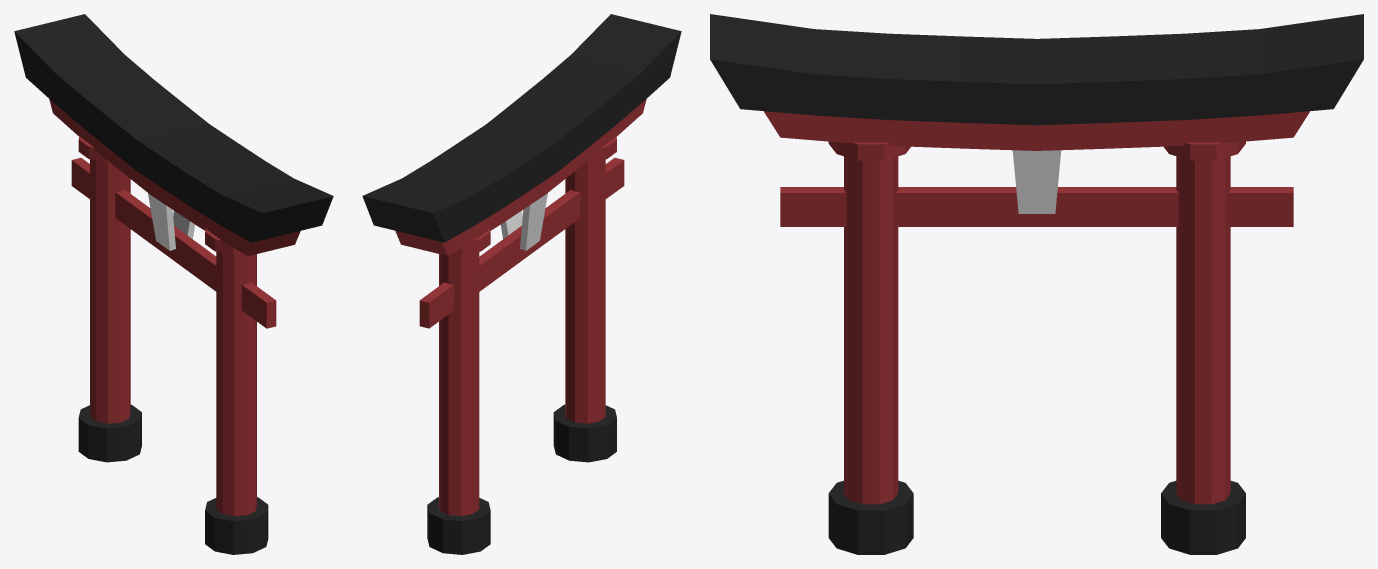
File: Torii.fbx
3 views of the same model, side by side, from view 1: azimuth 30°, elevation 25°; view 2: azimuth 150°, elevation 25°; view 3: azimuth 270°, elevation 25° (orthographic). The views are drawn at different scales.
Visible parts, largest first — view 1: Cube.016; view 2: Cube.016; view 3: Cube.016.
Boxes of the visible parts, x1,y1,x2,y2 form: Cube.016: (14,14,333,554); Cube.016: (362,14,681,554); Cube.016: (710,14,1363,554).
Bounding box in the file's own units: 344 × 1772 × 2095.
